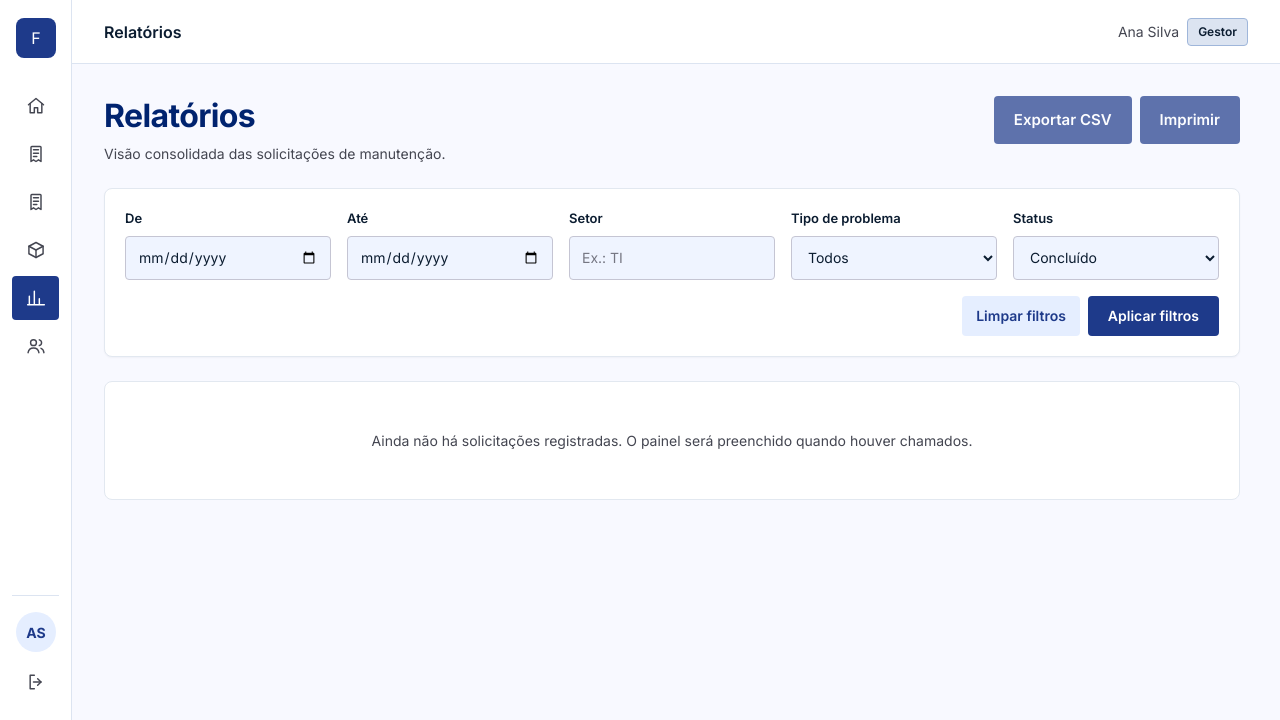
Test: ReportsPage › shows an informative empty state when filters return nothing (CA3)
Select "Concluído" in the dropdown named "status": point(1116, 258) [1013,236,1219,280]
Select "Concluído" in the dropdown named "status": point(1116, 258) [1013,236,1219,280]
Click the button "Aplicar filtros": point(1153, 316) [1088,296,1219,336]
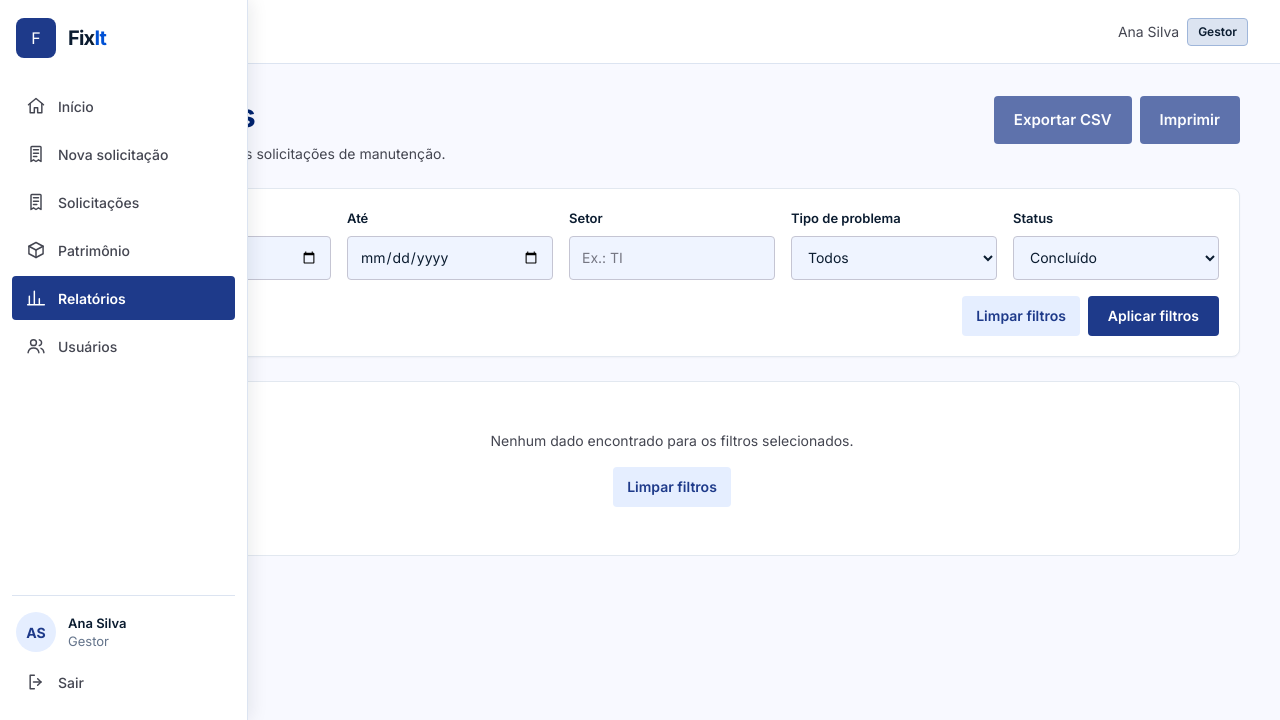
Expected: the text "Limpar filtros" is shown, [962,296,1080,336]
Result: the text "Nenhum dado encontrado para os filtros selecionados." is shown at [490,430,854,450]
